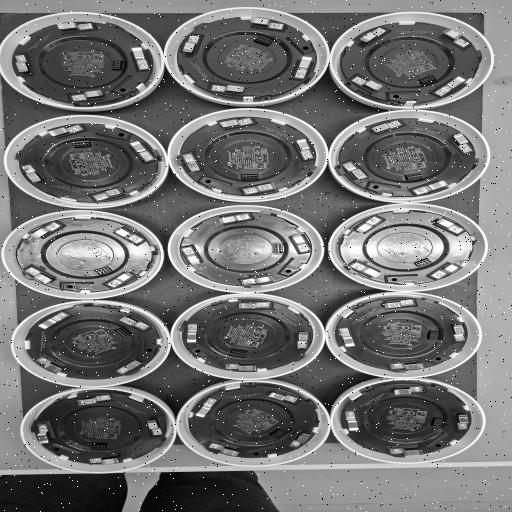konnektor: (251, 35, 276, 46), (226, 347, 253, 357), (269, 242, 286, 257), (85, 442, 110, 452), (404, 172, 428, 182), (268, 428, 288, 440), (409, 258, 435, 267), (426, 328, 441, 343), (70, 140, 94, 149), (110, 59, 126, 72), (113, 327, 130, 339), (430, 416, 447, 428), (240, 171, 260, 181), (92, 266, 112, 276), (417, 74, 436, 84)
yaysiz: (86, 184, 132, 202), (124, 139, 156, 164), (444, 130, 476, 155), (26, 221, 65, 241), (48, 20, 99, 35), (32, 311, 70, 331), (411, 178, 453, 196), (434, 74, 468, 96), (205, 442, 249, 459), (363, 119, 402, 138), (106, 269, 143, 289), (62, 88, 108, 104), (436, 27, 471, 48), (240, 180, 282, 197), (341, 409, 368, 435), (288, 137, 316, 162), (35, 356, 70, 376), (215, 115, 256, 132), (348, 261, 384, 280), (356, 26, 390, 46), (431, 260, 465, 280), (180, 244, 207, 269), (230, 297, 278, 311), (108, 225, 145, 243), (351, 76, 387, 94), (244, 16, 290, 30), (194, 397, 222, 420), (351, 216, 383, 236), (22, 162, 47, 187), (128, 45, 152, 71), (180, 151, 204, 177), (342, 158, 369, 181), (209, 82, 250, 97), (24, 266, 56, 285), (263, 390, 303, 405), (141, 414, 166, 438), (386, 357, 428, 371), (72, 393, 114, 407), (46, 124, 85, 139), (12, 53, 36, 77), (179, 34, 203, 57), (286, 231, 311, 253), (336, 326, 358, 351), (293, 54, 314, 80), (212, 213, 254, 226), (379, 298, 418, 312), (432, 217, 464, 234), (119, 312, 149, 330), (89, 452, 127, 466), (116, 358, 145, 376), (386, 446, 429, 457), (240, 274, 278, 286), (184, 320, 203, 344), (388, 385, 426, 397), (36, 422, 53, 448), (222, 361, 262, 372), (290, 430, 312, 449), (296, 329, 314, 352), (452, 412, 472, 432), (451, 320, 466, 345)
